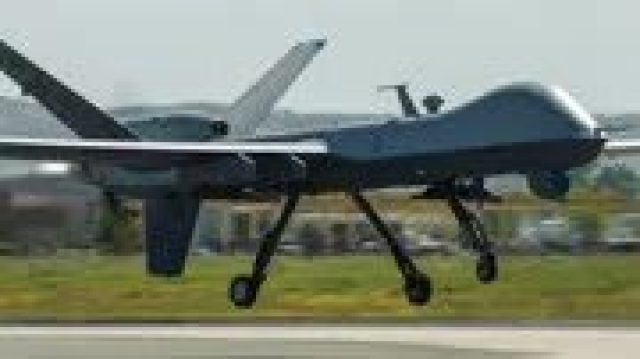military drone: (0, 38, 640, 309)
